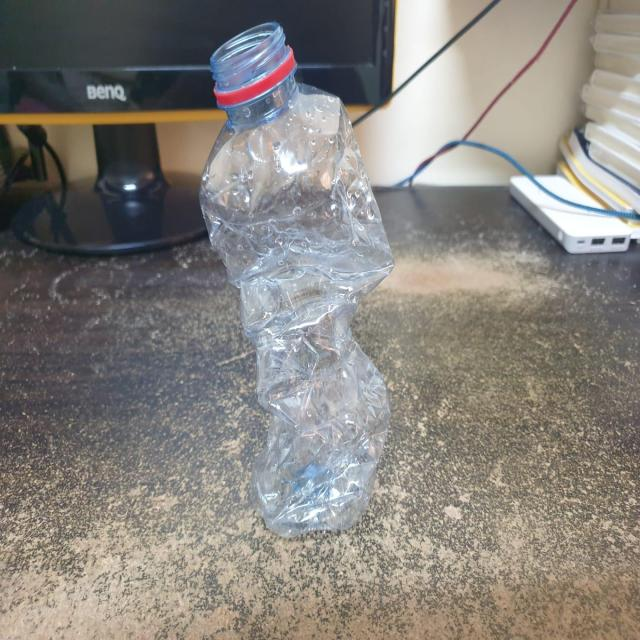bottle: (202, 29, 394, 538)
